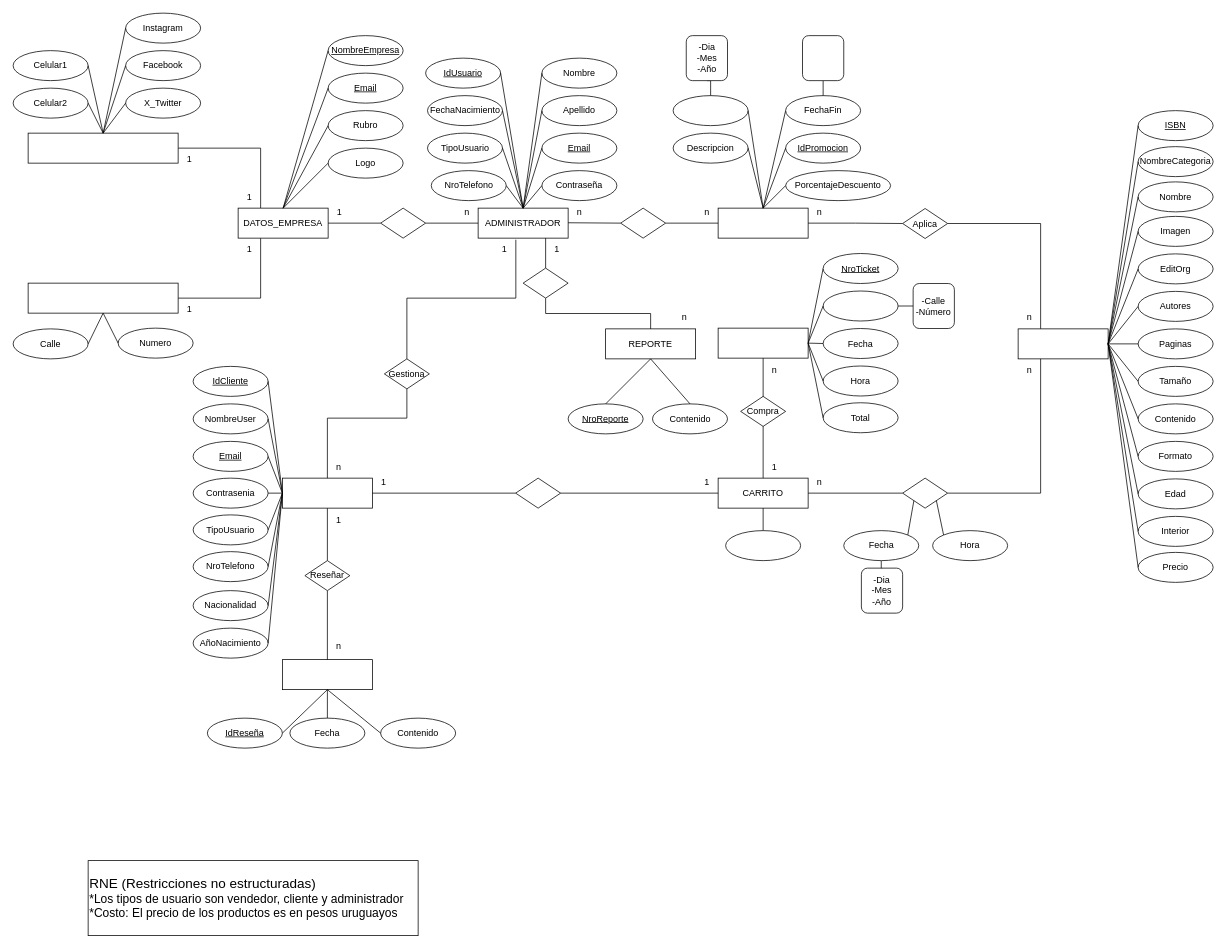
The diagram is 1226 pixels wide and 949 high, and some of its shapes have lost their labels. Here are the shapes that lost their labels. From the top down, the centre of each, then its label:
pixel 823 58: -Dia -Mes - Año
pixel 710 110: FechaInicio
pixel 102 147: DATOS_EMPRESA_CONTACTO
pixel 403 222: Carga
pixel 643 222: Crea
pixel 762 222: PROMOCION
pixel 102 297: DATOS_EMPRESA_DIRECCION
pixel 545 282: Hace
pixel 860 305: DirEnvio
pixel 762 342: TICKET
pixel 1062 343: HISTORIETA
pixel 327 492: CLIENTE
pixel 538 492: Tiene
pixel 925 492: Agrega
pixel 763 545: IdCarrito
pixel 327 674: RESEÑA
